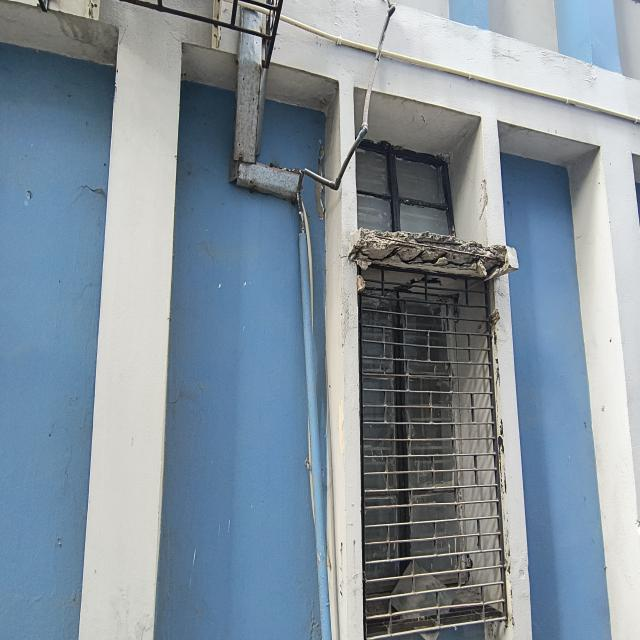spalling: (348, 228, 516, 279)
